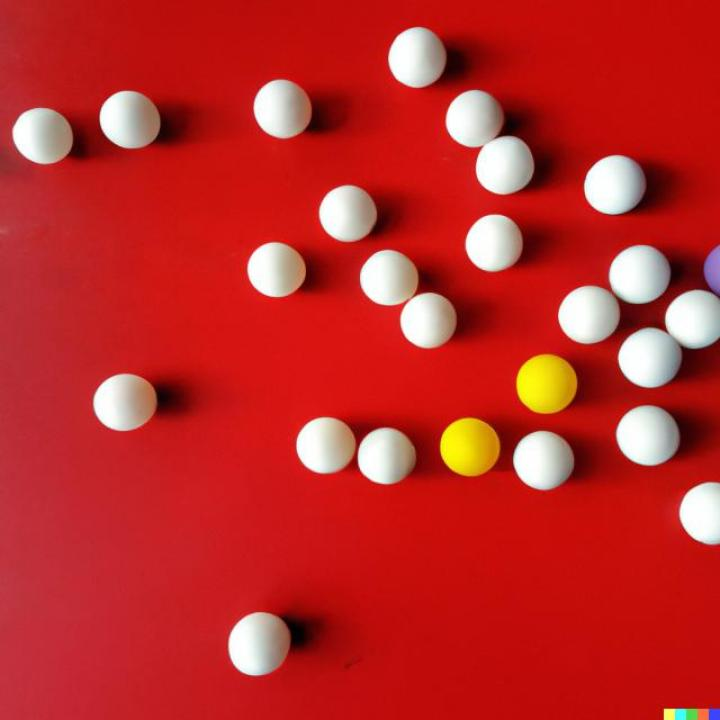white: (616, 404, 680, 467), (617, 327, 682, 389), (229, 613, 292, 676), (608, 243, 671, 306), (558, 284, 622, 346), (512, 430, 576, 491), (584, 154, 646, 216), (98, 89, 161, 149), (93, 374, 158, 432), (253, 79, 313, 140), (445, 88, 506, 148), (388, 26, 447, 88), (465, 213, 524, 274), (12, 107, 74, 165), (474, 137, 536, 195), (356, 427, 417, 485), (246, 242, 308, 299), (357, 249, 419, 306), (664, 288, 720, 350), (399, 292, 458, 349), (296, 418, 356, 474), (318, 187, 377, 243), (679, 481, 720, 544)
